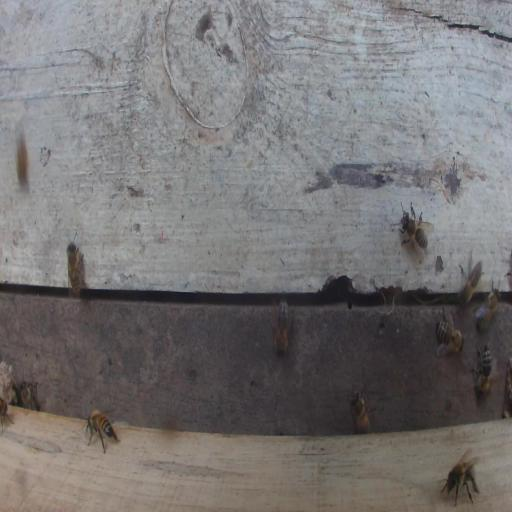nonpollenbee: (391, 201, 432, 259), (440, 450, 479, 507), (85, 408, 120, 454), (457, 259, 487, 311), (66, 230, 86, 297), (474, 282, 500, 331), (437, 312, 465, 357), (271, 298, 292, 356), (471, 341, 492, 395), (349, 388, 371, 434), (16, 119, 29, 192), (19, 381, 38, 410), (1, 396, 15, 431)
